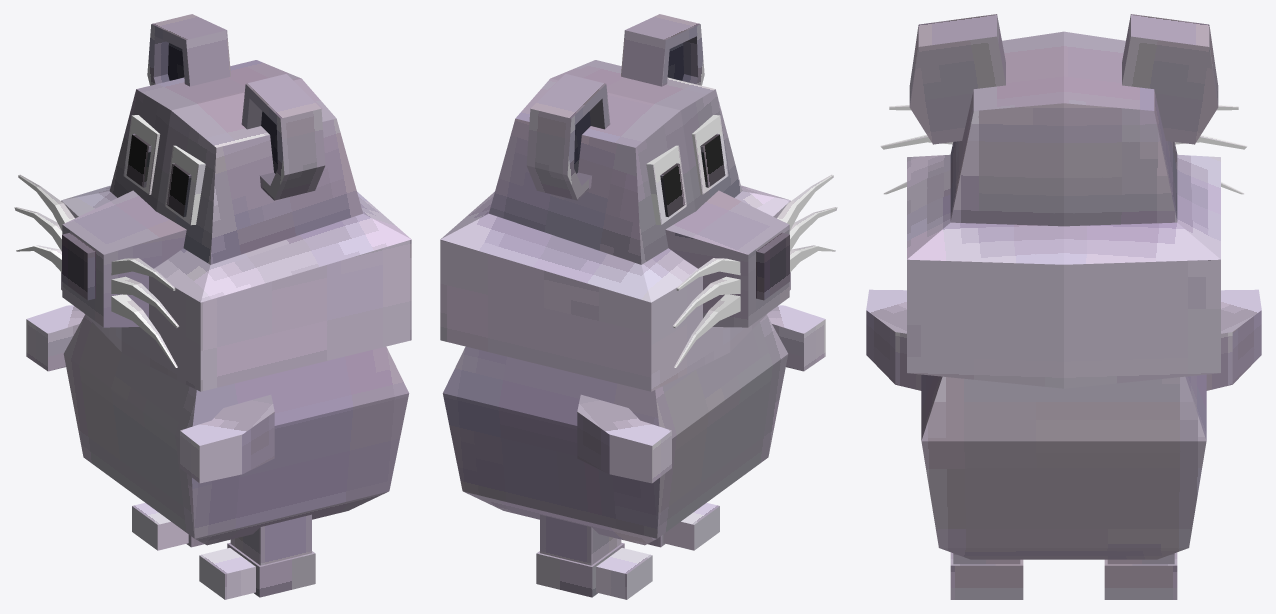
File: animal_hamster.obj
The picture shows the model from 3 angles, left to right: view 1: azimuth 30°, elevation 25°; view 2: azimuth 150°, elevation 25°; view 3: azimuth 270°, elevation 25°; orthographic projection. The views are drawn at different scales.
Parts seen in each view (by area): view 1: animal_hamster; view 2: animal_hamster; view 3: animal_hamster.
Boxes of the visible parts, left/top/right/bottom form: animal_hamster: left=14, top=14, right=411, bottom=599; animal_hamster: left=440, top=14, right=837, bottom=599; animal_hamster: left=866, top=14, right=1261, bottom=599.
Size of the model in its own units: 1.23 by 2.12 by 1.36.
1 material, 1 textured.
